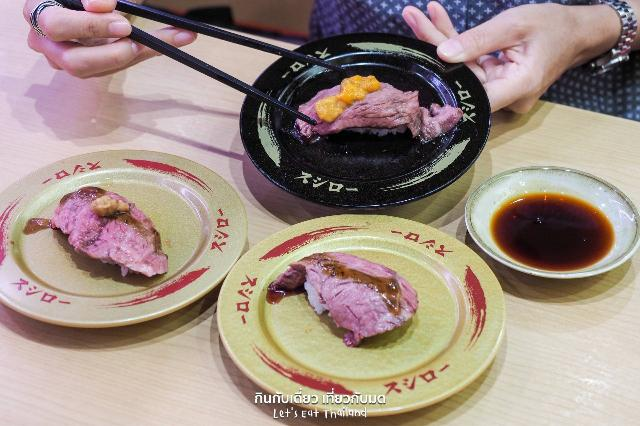janback: (254, 135, 450, 201), (315, 29, 483, 77), (438, 78, 498, 176)
jangold: (0, 277, 201, 349), (216, 356, 438, 419), (168, 148, 250, 315), (413, 237, 486, 383), (7, 140, 207, 188), (241, 206, 390, 254), (361, 204, 458, 273), (0, 191, 50, 279)
